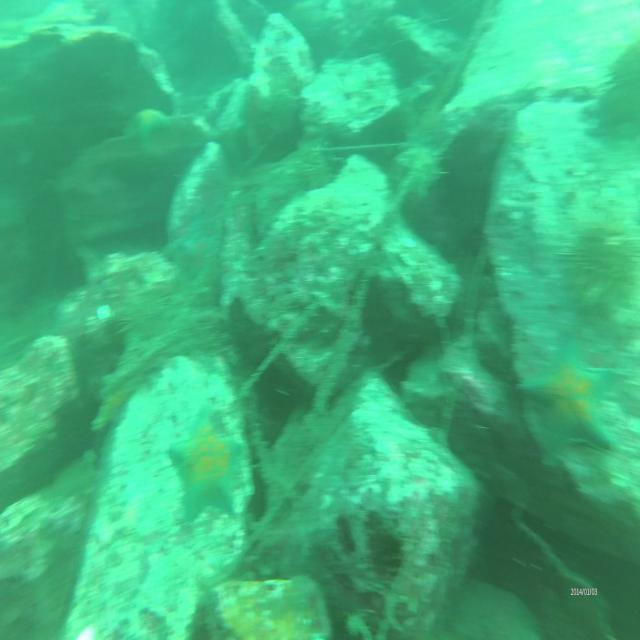starfish: (521, 328, 623, 475), (169, 414, 242, 524), (122, 100, 168, 154)
